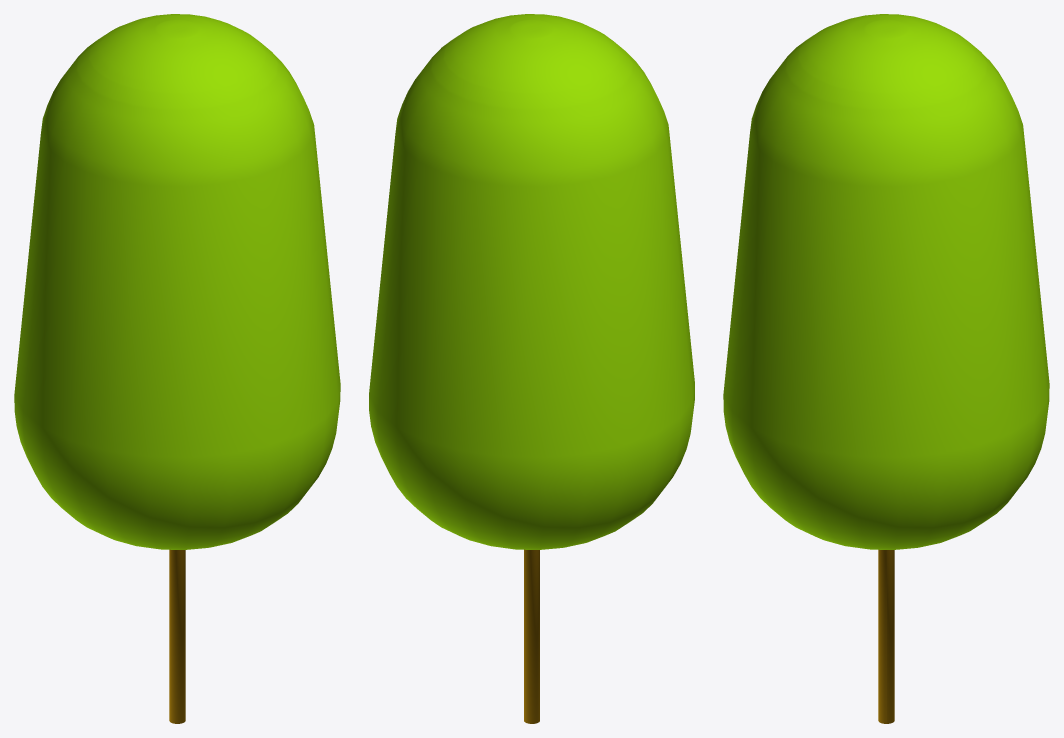
The model's file is HPS14m.glb.
3 views of the same model, side by side, from view 1: azimuth 30°, elevation 25°; view 2: azimuth 150°, elevation 25°; view 3: azimuth 270°, elevation 25° (orthographic).
Visible parts, largest first — view 1: HPS14m; view 2: HPS14m; view 3: HPS14m.
Boxes of the visible parts, box(x1,y1,x2,y2) form: HPS14m: box(14, 14, 340, 723); HPS14m: box(369, 14, 694, 723); HPS14m: box(723, 14, 1049, 723).
Size of the model in its own units: 5.98 by 14 by 5.98.
